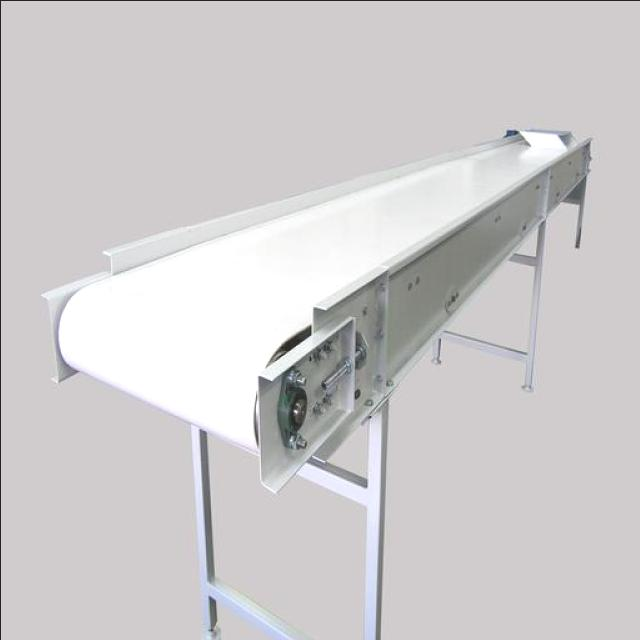conveyor: (60, 142, 578, 467)
